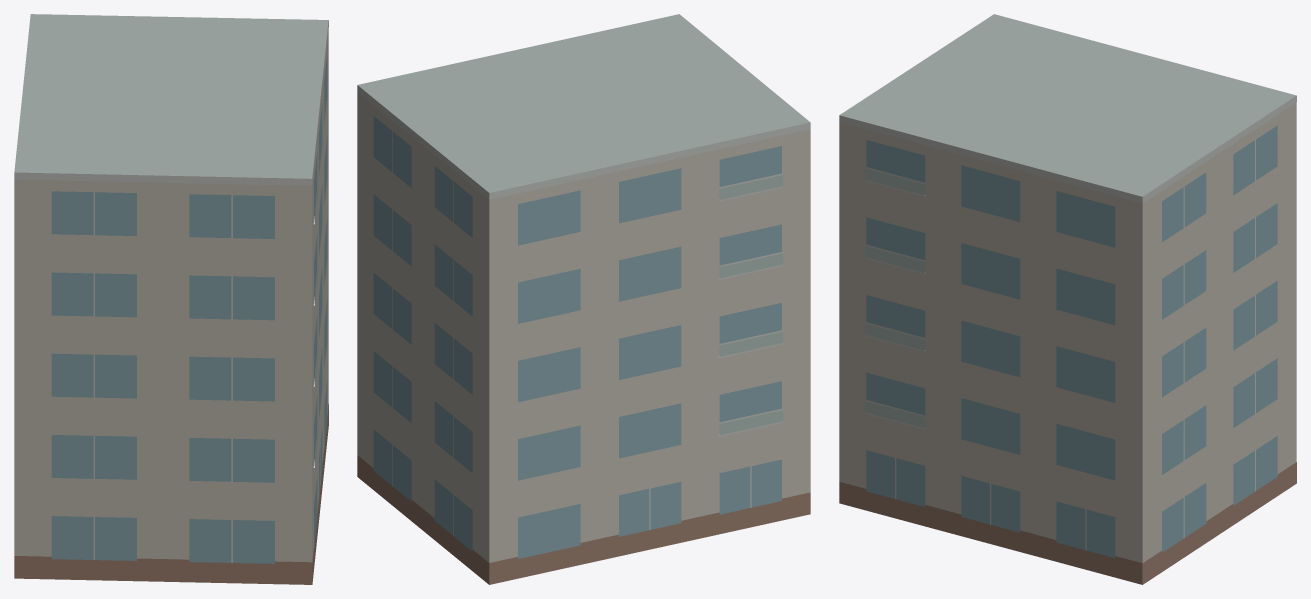
The model's file is survey-upis-32755264.glb.
3 renders of one model, left to right at view 1: azimuth 30°, elevation 25°; view 2: azimuth 150°, elevation 25°; view 3: azimuth 270°, elevation 25°, orthographic. The views are drawn at different scales.
Parts seen in each view (by area): view 1: survey-upis-32755264.tmp; view 2: survey-upis-32755264.tmp; view 3: survey-upis-32755264.tmp.
Boxes of the visible parts, box(x1,y1,x2,y2) form: survey-upis-32755264.tmp: box(14, 14, 328, 584); survey-upis-32755264.tmp: box(357, 14, 810, 584); survey-upis-32755264.tmp: box(839, 14, 1296, 584).
Bounding box in the file's own units: 14.26 × 14.1 × 15.07.
